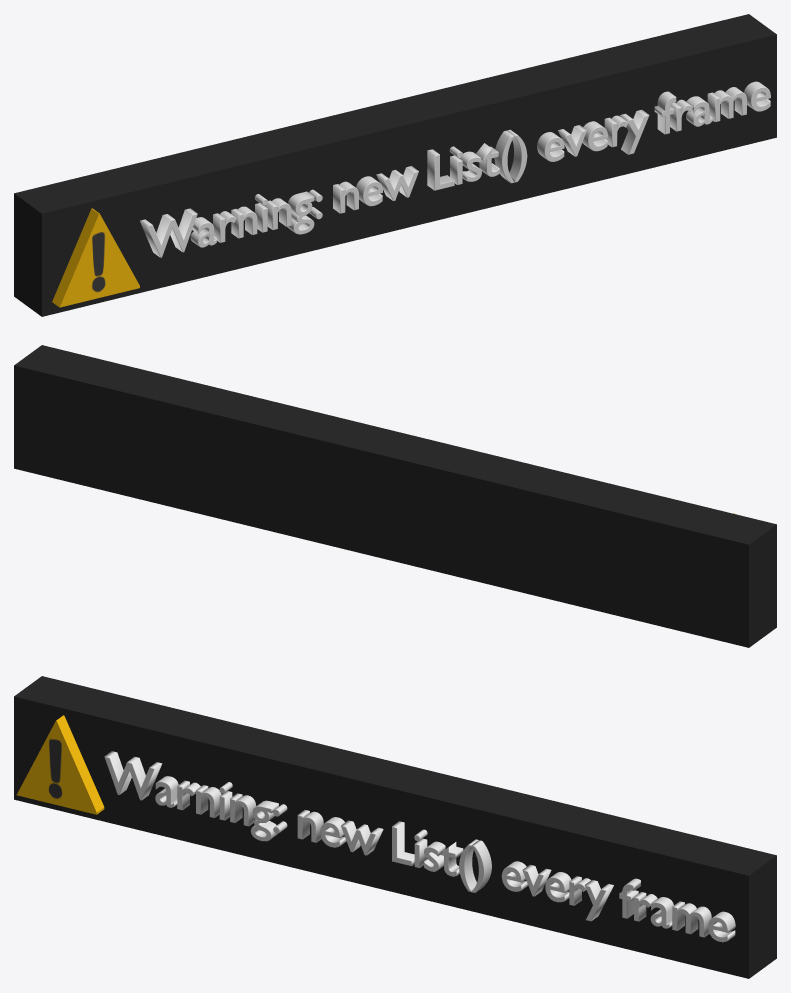
The model's file is Warning_ new List() every frame1.fbx.
3 renders of one model, top to bottom at view 1: azimuth 30°, elevation 25°; view 2: azimuth 150°, elevation 25°; view 3: azimuth 330°, elevation 25°, orthographic.
Parts seen in each view (by area): view 1: no2, Warning: new List() every frame; view 2: no2; view 3: no2, Warning: new List() every frame.
Boxes of the visible parts, bbox=[...] form: no2: bbox=[14, 14, 776, 316]; Warning: new List() every frame: bbox=[140, 81, 770, 257]; no2: bbox=[14, 345, 776, 647]; no2: bbox=[14, 676, 776, 978]; Warning: new List() every frame: bbox=[104, 751, 735, 942].
Size of the model in its own units: 2945 by 395 by 247.
